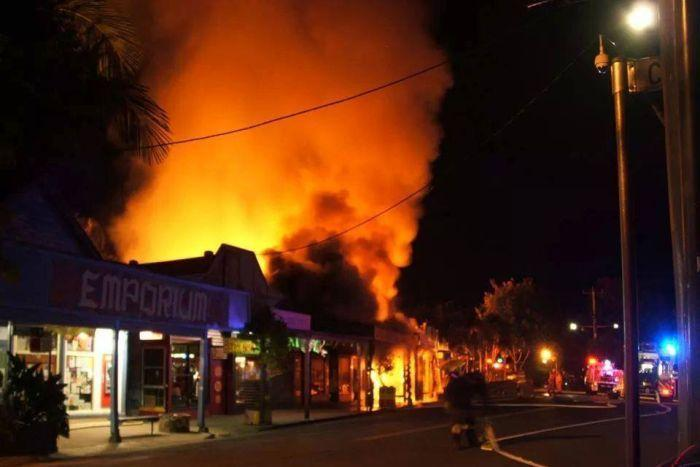Fire: (326, 319, 487, 415)
